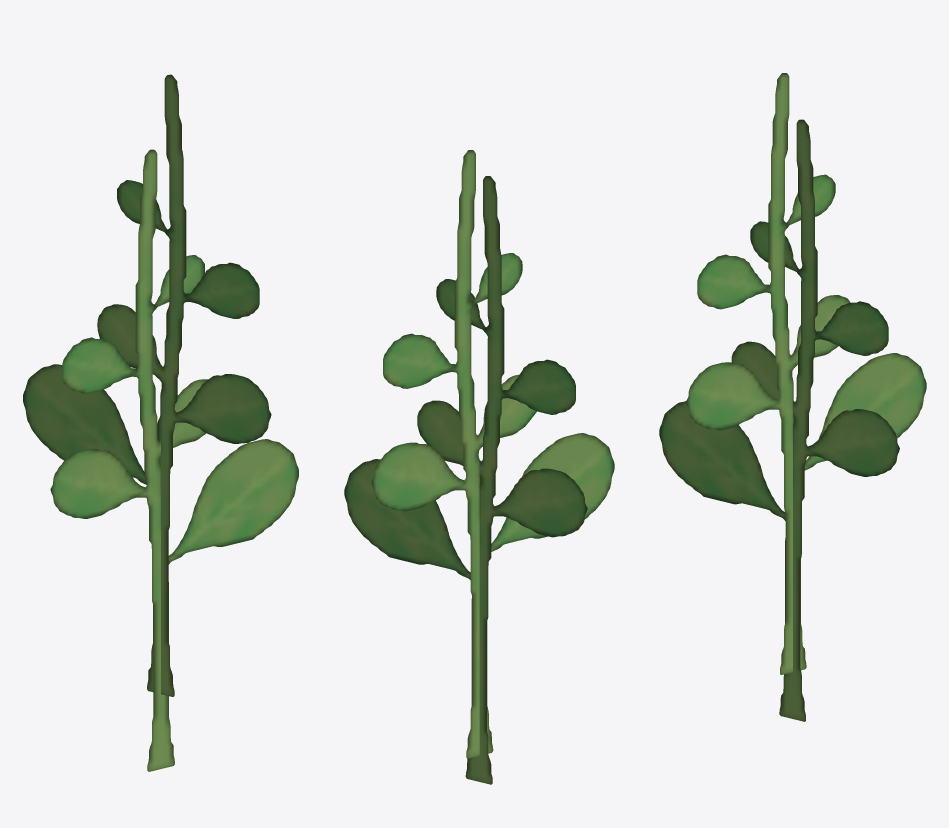
File: LeafSetG_13.fbx
3 views of the same model, side by side, from view 1: azimuth 30°, elevation 25°; view 2: azimuth 150°, elevation 25°; view 3: azimuth 270°, elevation 25° (orthographic). The views are drawn at different scales.
Visible parts, largest first — view 1: LeafSetG_13; view 2: LeafSetG_13; view 3: LeafSetG_13.
Boxes of the visible parts, left/top/right/bottom form: LeafSetG_13: left=23, top=74, right=298, bottom=771; LeafSetG_13: left=344, top=150, right=614, bottom=784; LeafSetG_13: left=659, top=73, right=926, bottom=721.
Bounding box in the file's own units: 0.2384 × 0.5835 × 0.2155.
